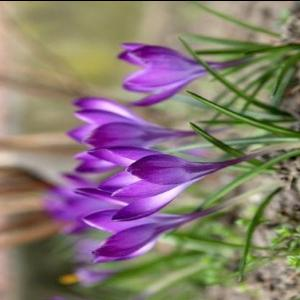Saffron: (86, 144, 216, 220), (75, 186, 188, 266), (64, 97, 174, 174), (119, 40, 212, 108)
